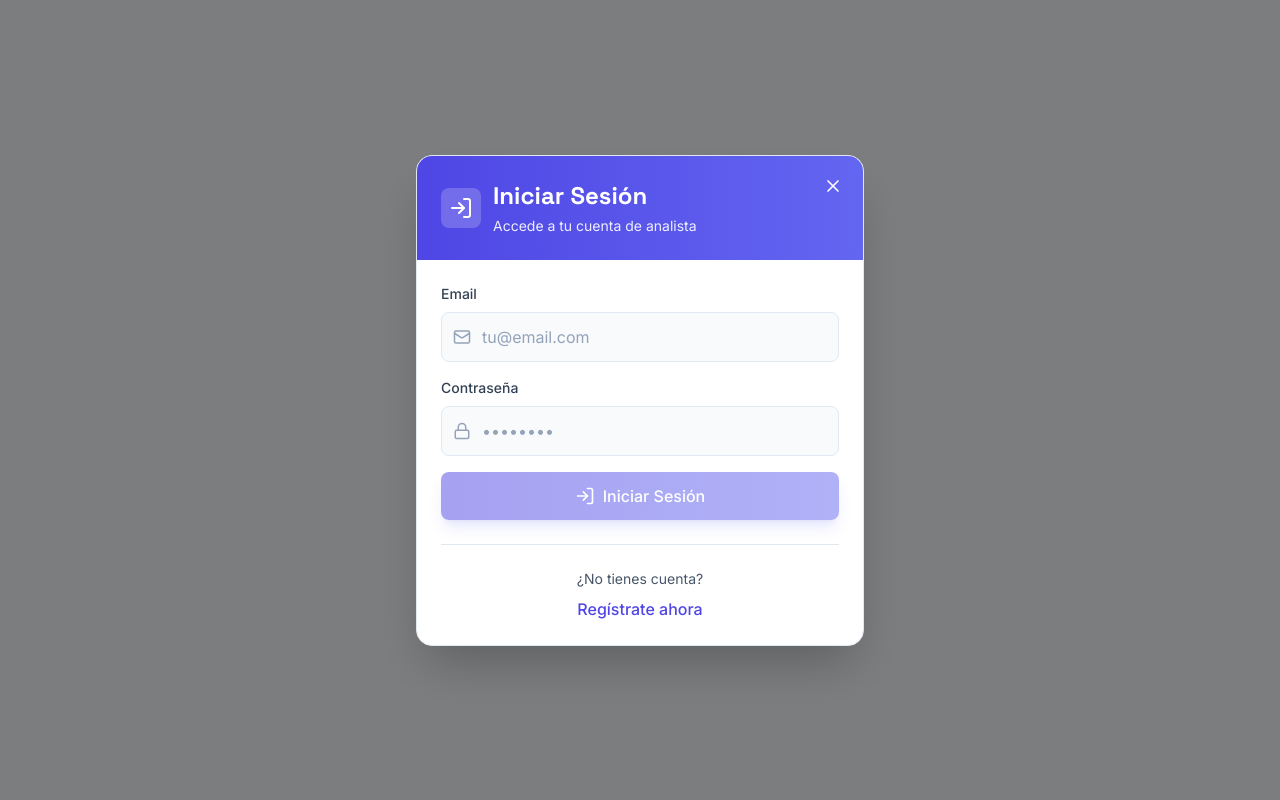
Auth Validation Flow › should handle login error
Type "bad@example.com" into the field with test id "email-input".
click(640, 336); type("bad@example.com")  # box [441,312,839,362]
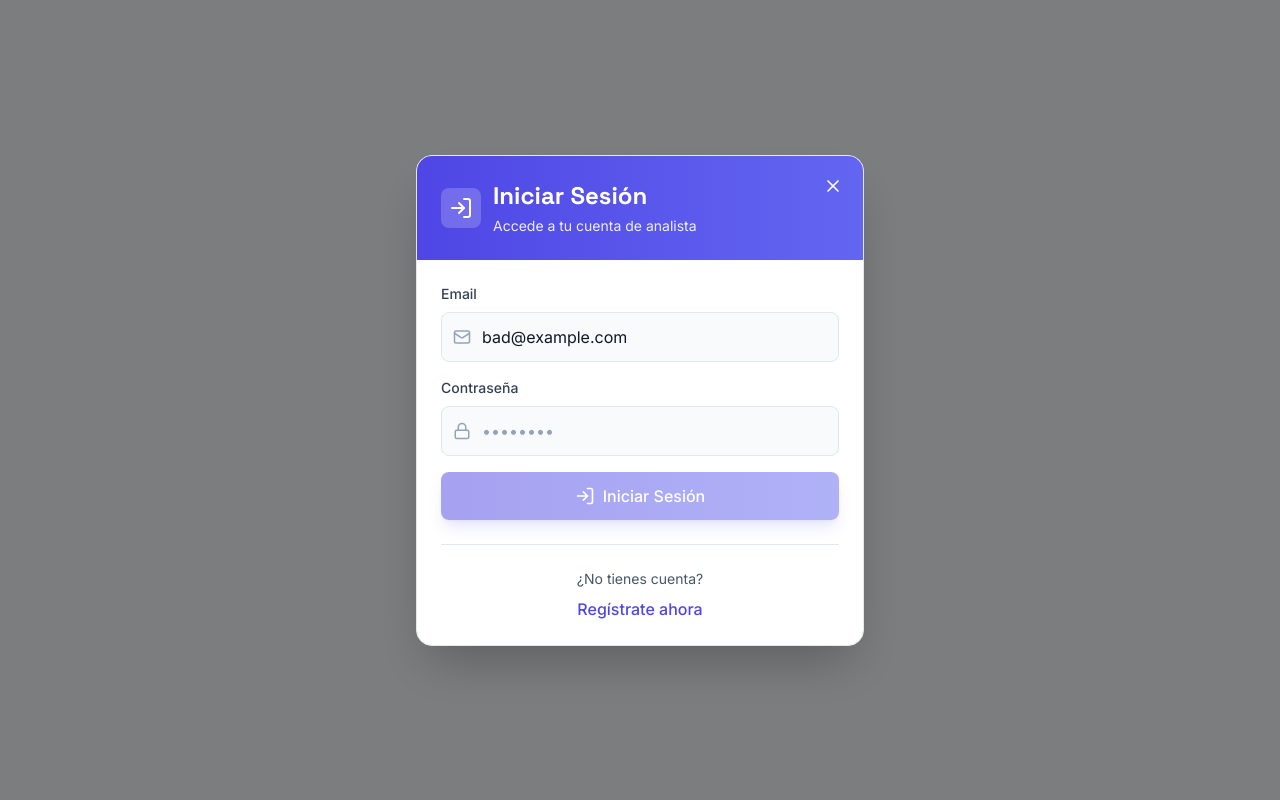
Type "wrongpass" into the password field with test id "password-input".
click(640, 430); type("wrongpass")  # box [441,406,839,456]
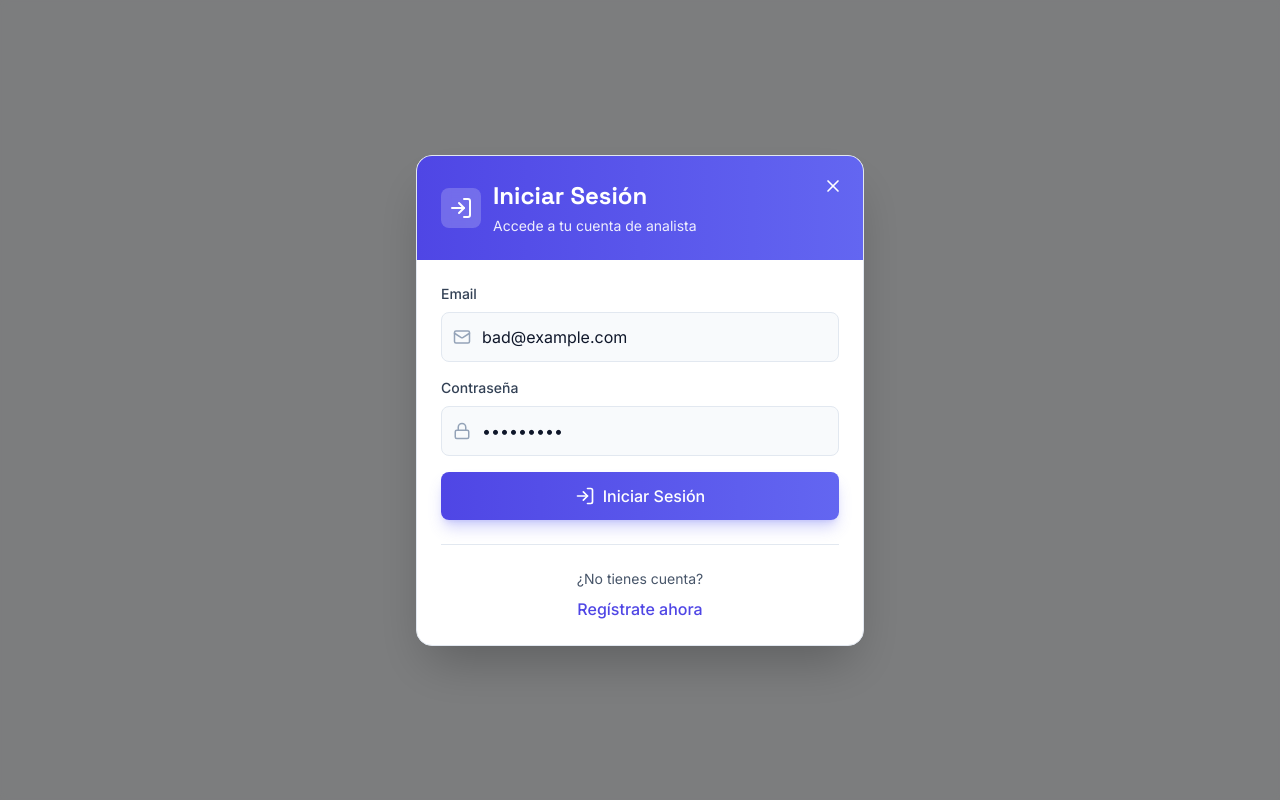
Click the button with test id "submit-button".
click(640, 496)  # box [441,472,839,520]
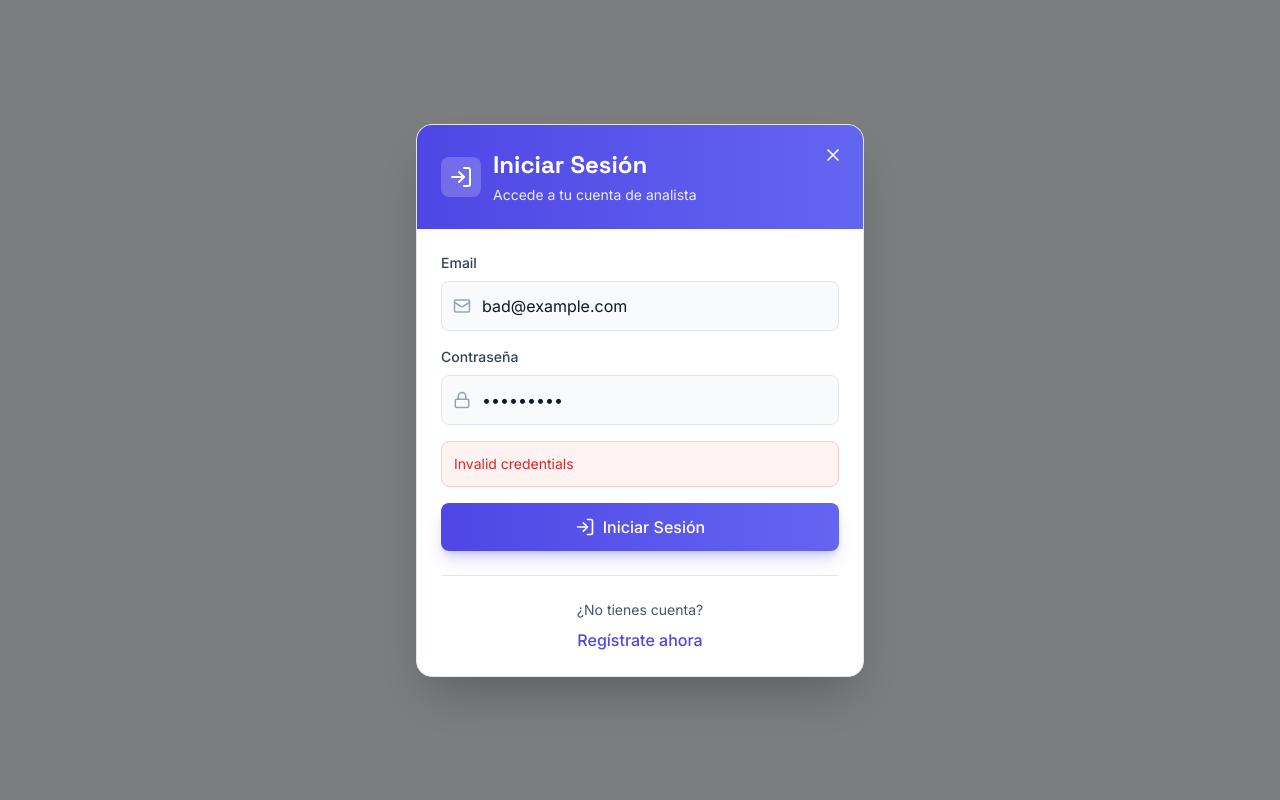
Now the element with test id "auth-error" reads "Invalid credentials", box [454,454,574,472]
